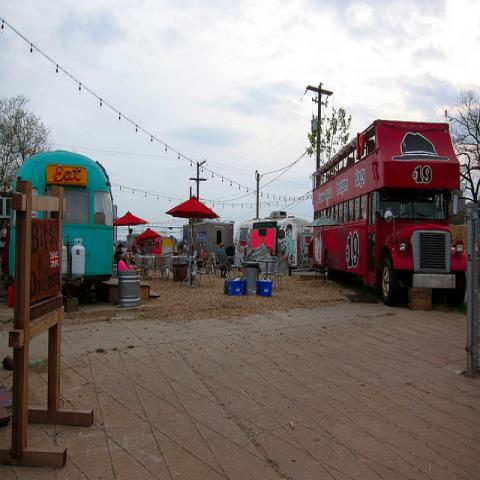bus: (308, 121, 466, 305), (16, 150, 114, 276)
